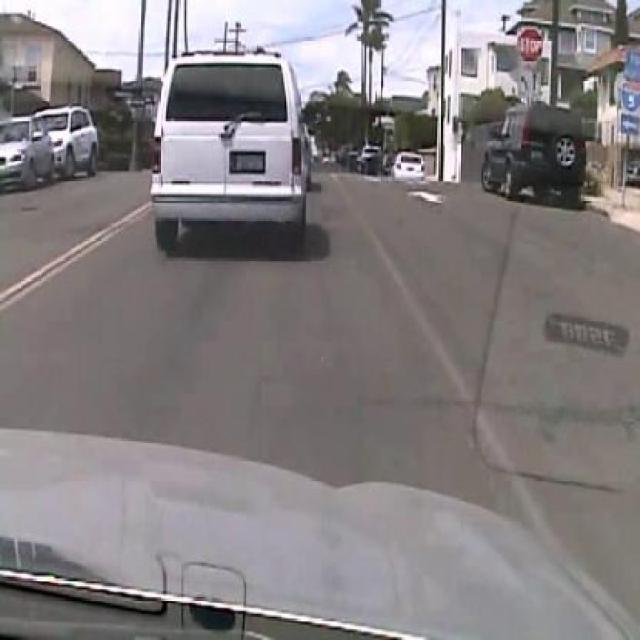stop: (514, 22, 544, 68)
